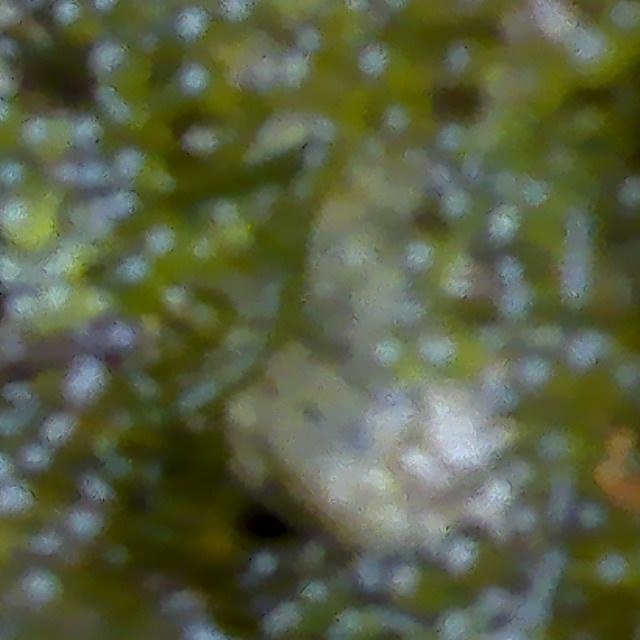SeaGrape: (0, 192, 57, 252), (41, 416, 98, 466), (432, 411, 484, 464), (16, 443, 69, 488), (0, 250, 28, 286)
